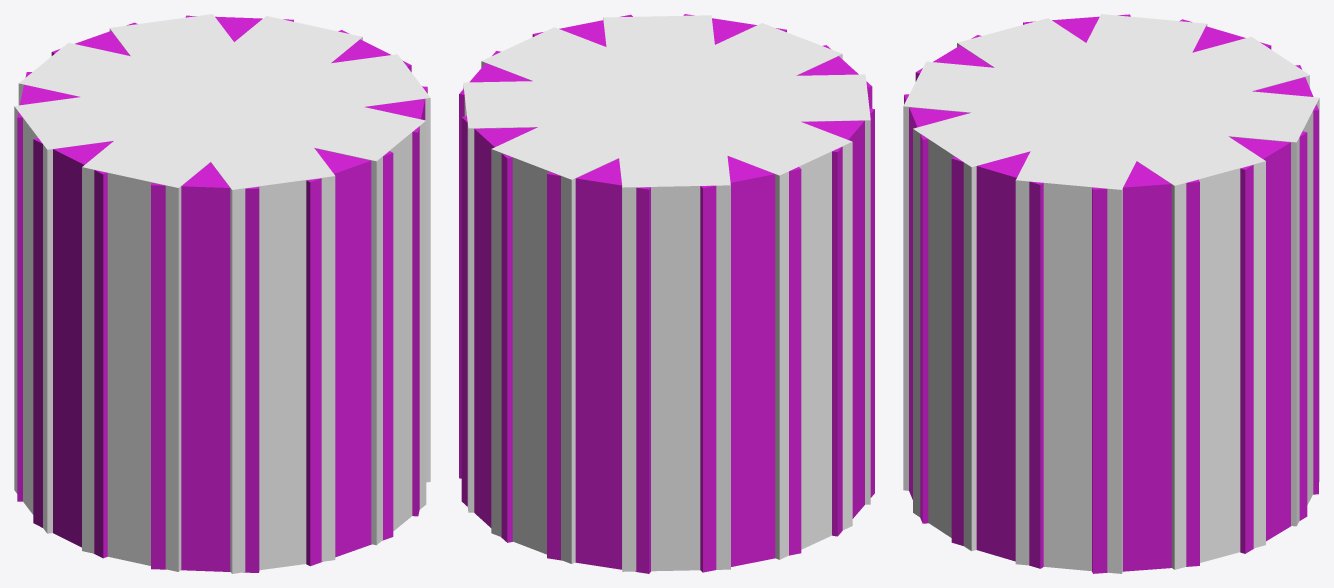
The model's file is bonbonRed.dae.
3 views of the same model, side by side, from view 1: azimuth 30°, elevation 25°; view 2: azimuth 150°, elevation 25°; view 3: azimuth 270°, elevation 25° (orthographic).
Visible parts, largest first — view 1: 0NOTE.006, 0NOTE, 0NOTE.007, 0NOTE.004, 0NOTE.001, 0NOTE.002, 0NOTE.003, 0NOTE.005; view 2: 0NOTE.004, 0NOTE, 0NOTE.002, 0NOTE.001, 0NOTE.005, 0NOTE.006, 0NOTE.007, 0NOTE.003; view 3: 0NOTE.002, 0NOTE.006, 0NOTE.004, 0NOTE.003, 0NOTE.005, 0NOTE, 0NOTE.007, 0NOTE.001.
Part boxes in pixels (x1,y1,x2,y2): 0NOTE.006: [82, 16, 362, 571]; 0NOTE: [109, 14, 335, 573]; 0NOTE.007: [151, 15, 293, 572]; 0NOTE.004: [18, 42, 426, 545]; 0NOTE.001: [51, 22, 393, 566]; 0NOTE.002: [14, 54, 430, 533]; 0NOTE.003: [33, 30, 411, 558]; 0NOTE.005: [17, 72, 427, 516]; 0NOTE.004: [603, 15, 730, 571]; 0NOTE: [491, 23, 842, 563]; 0NOTE.002: [481, 27, 852, 559]; 0NOTE.001: [547, 14, 786, 573]; 0NOTE.005: [532, 14, 801, 572]; 0NOTE.006: [463, 74, 870, 512]; 0NOTE.007: [461, 45, 872, 542]; 0NOTE.003: [459, 51, 874, 536]; 0NOTE.002: [1015, 14, 1207, 573]; 0NOTE.006: [957, 18, 1265, 569]; 0NOTE.004: [913, 36, 1309, 551]; 0NOTE.003: [1023, 14, 1199, 573]; 0NOTE.005: [951, 19, 1271, 568]; 0NOTE: [903, 61, 1319, 526]; 0NOTE.007: [915, 35, 1307, 553]; 0NOTE.001: [904, 65, 1318, 523].
Bounding box in the file's own units: 0.8844 × 0.8844 × 0.901.
